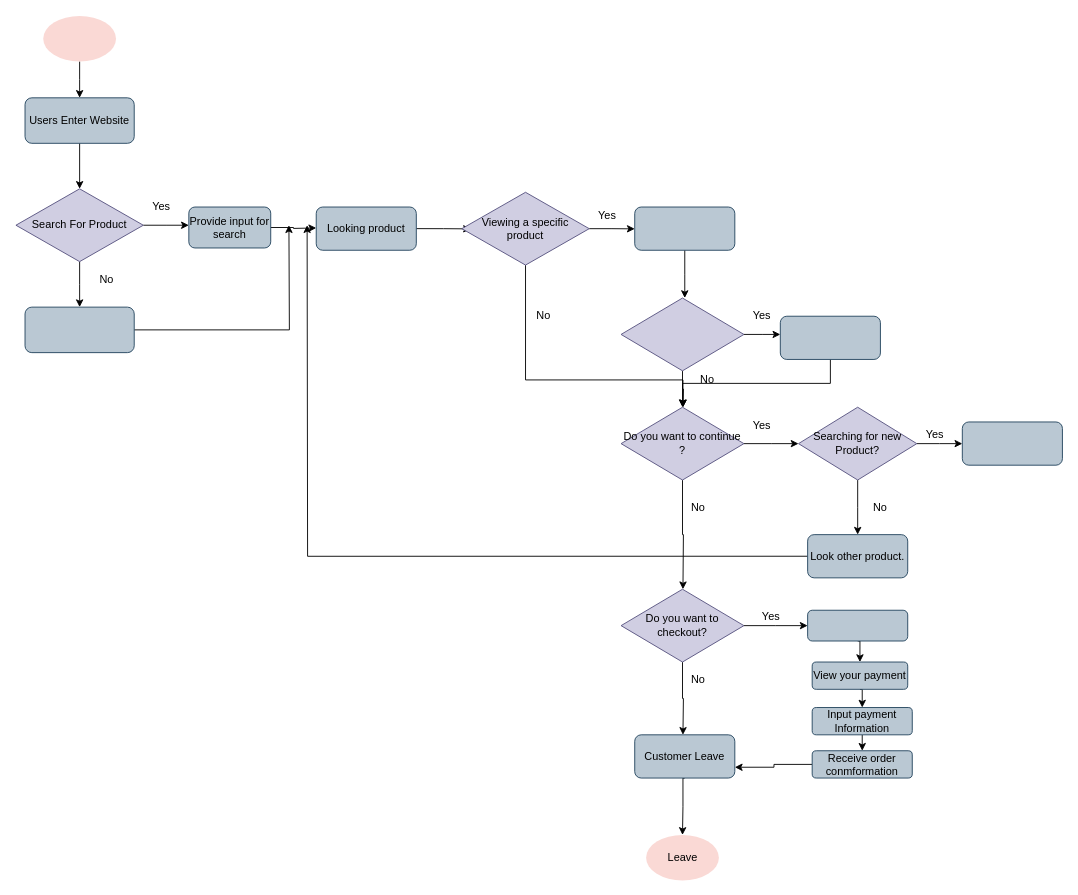
Some shapes in this 1078 by 895 pixel diagram are drawn without their labels. The shapes that lost their labels are listed below. From the top down, each one's centre as x and y in pixels, then its label:
(x=79, y=38): Start
(x=684, y=228): Open the produt web page
(x=79, y=329): Explore Product at home page
(x=682, y=334): Add item the item into cart
(x=829, y=337): Please confirm to cart
(x=1011, y=443): Go to new product page
(x=857, y=625): View your cart
